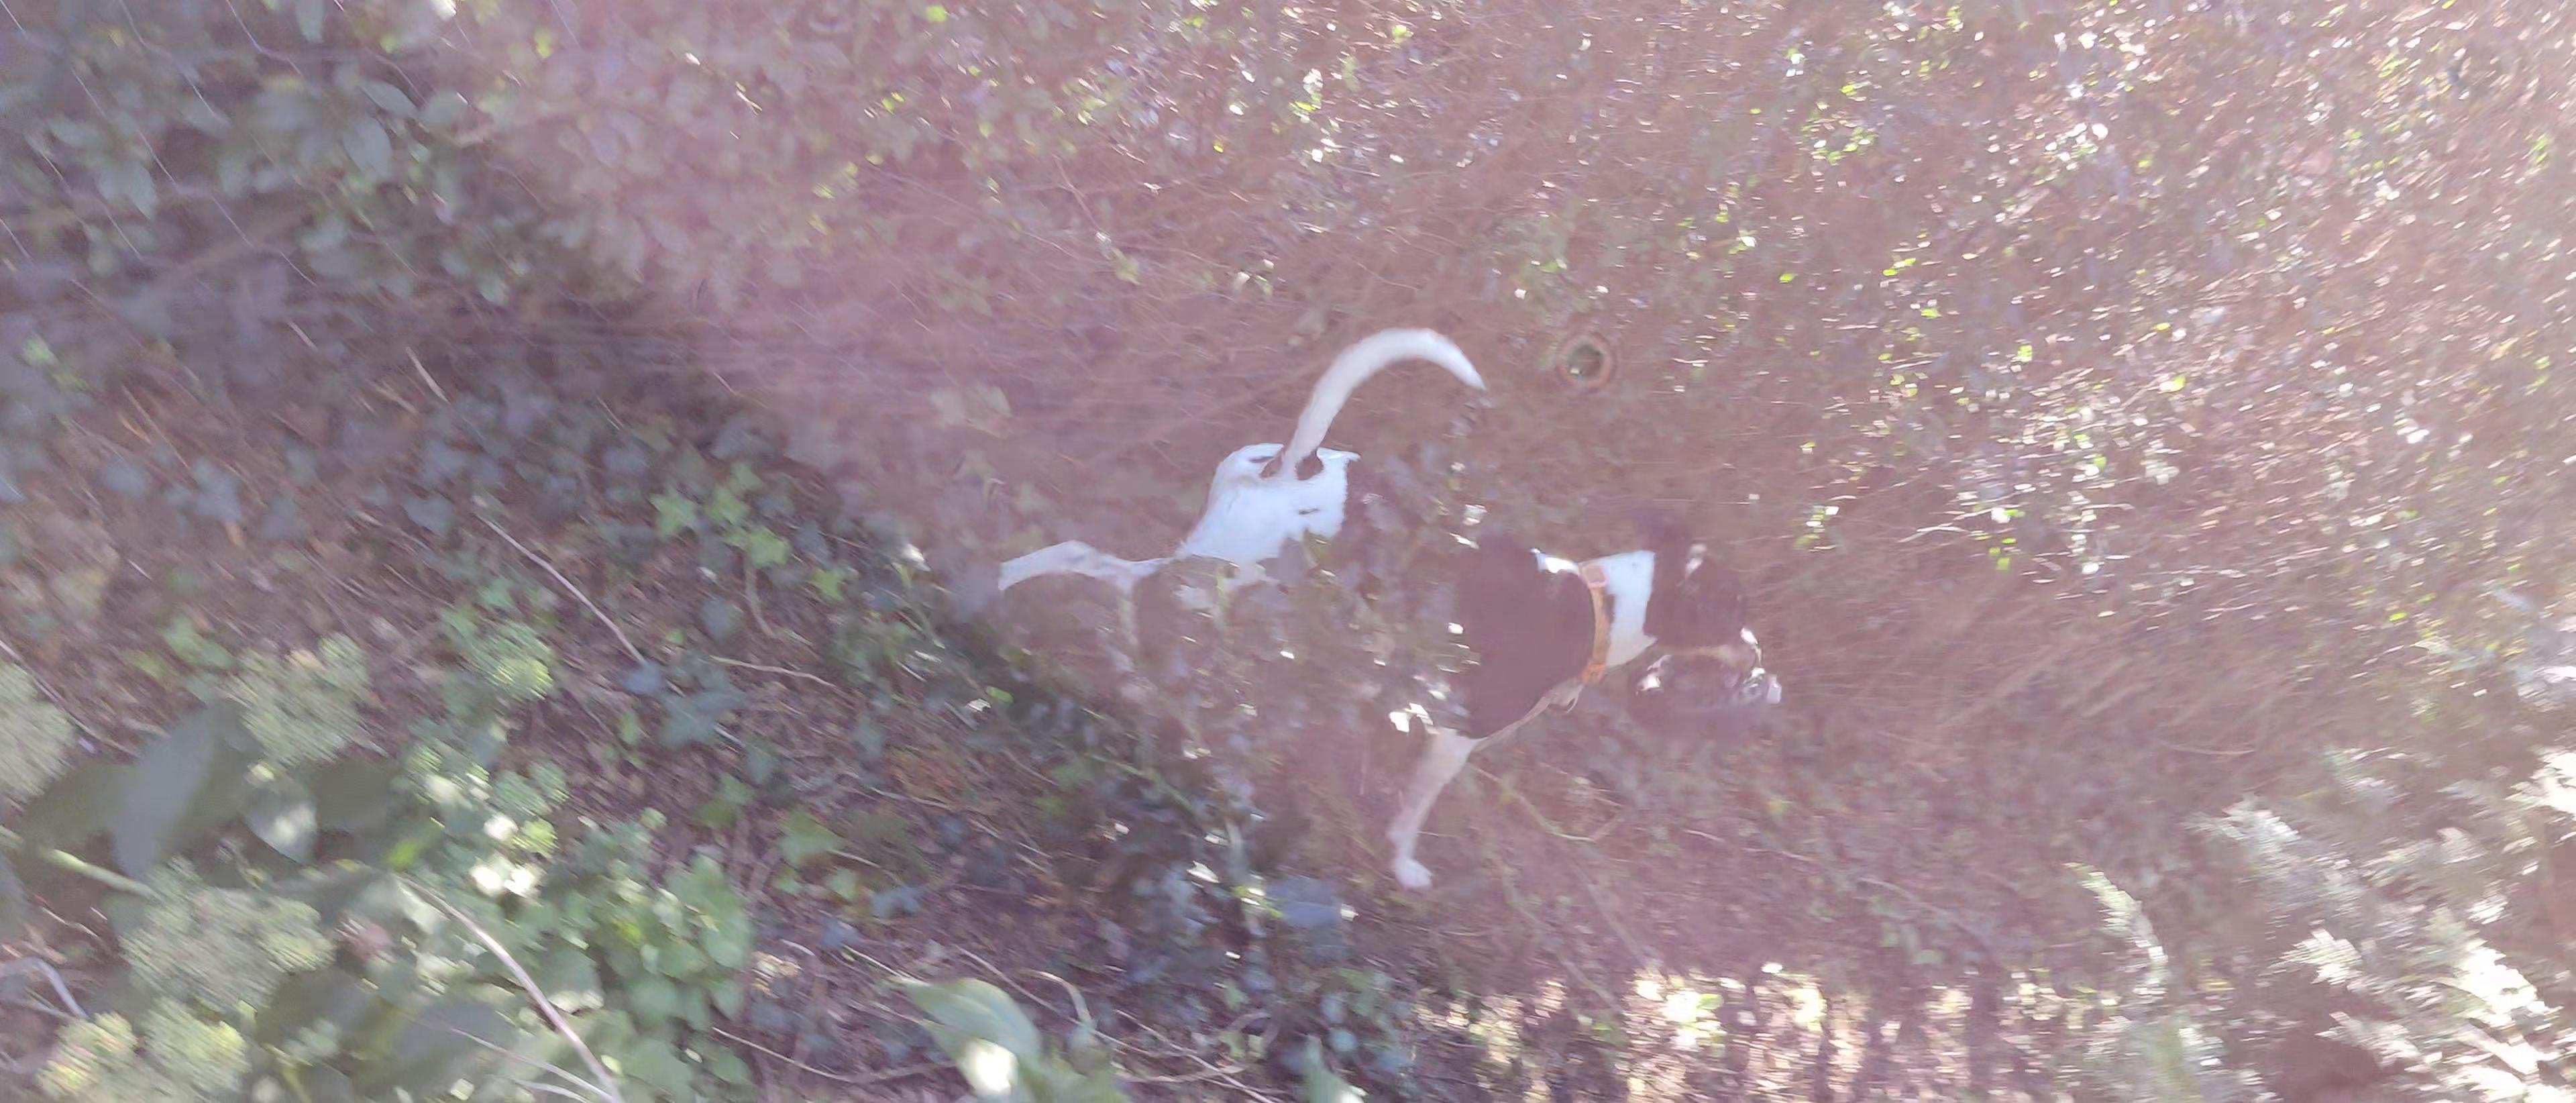Dog: (987, 319, 1768, 894)
